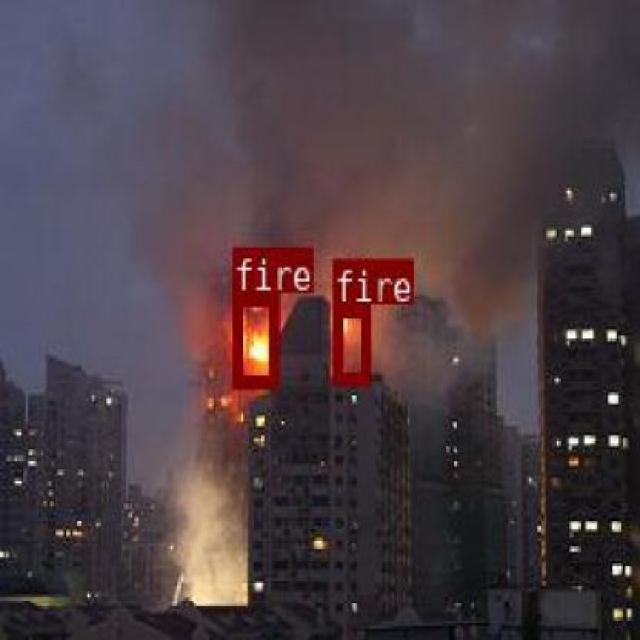Fire: (230, 292, 276, 386), (332, 304, 368, 382)
Smoke: (112, 6, 627, 209), (440, 224, 530, 351), (165, 468, 243, 601)
